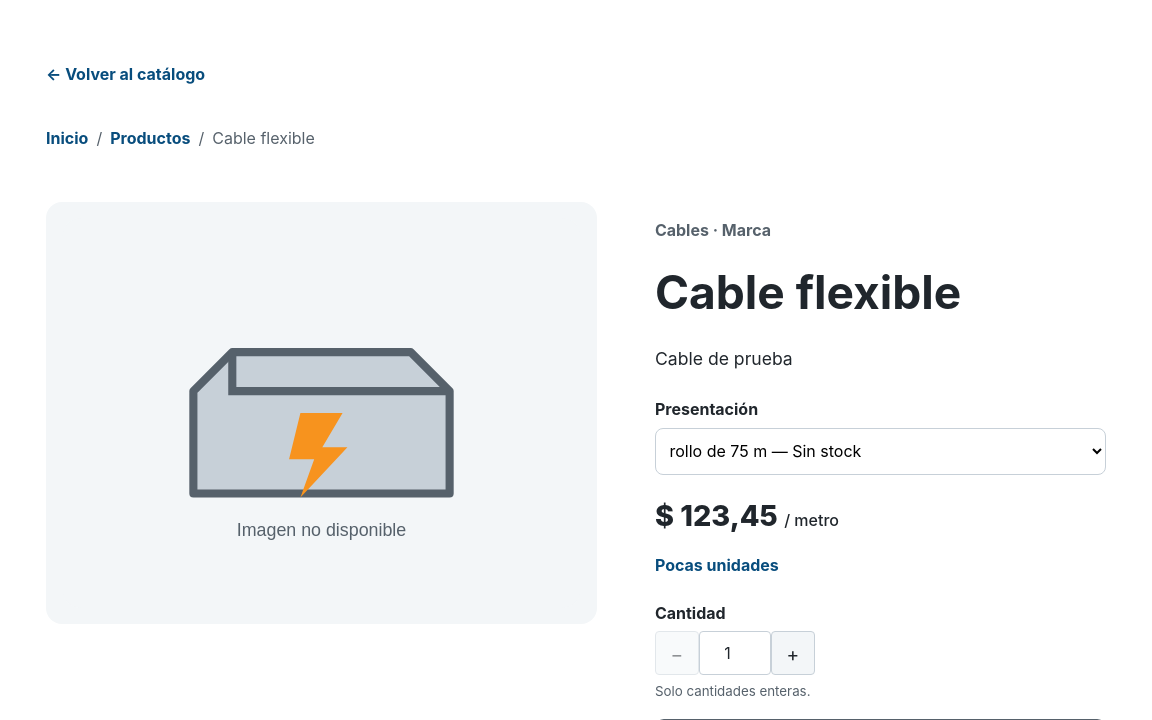
Test case: ProductDetailPageComponent › shows the selected presentation availability and disables its quantity control when empty
Step 1. Select "rollo de 75 m — Sin stock" in the dropdown labelled "Presentación" → (880,451), box x1=655 y1=428 x2=1106 y2=474
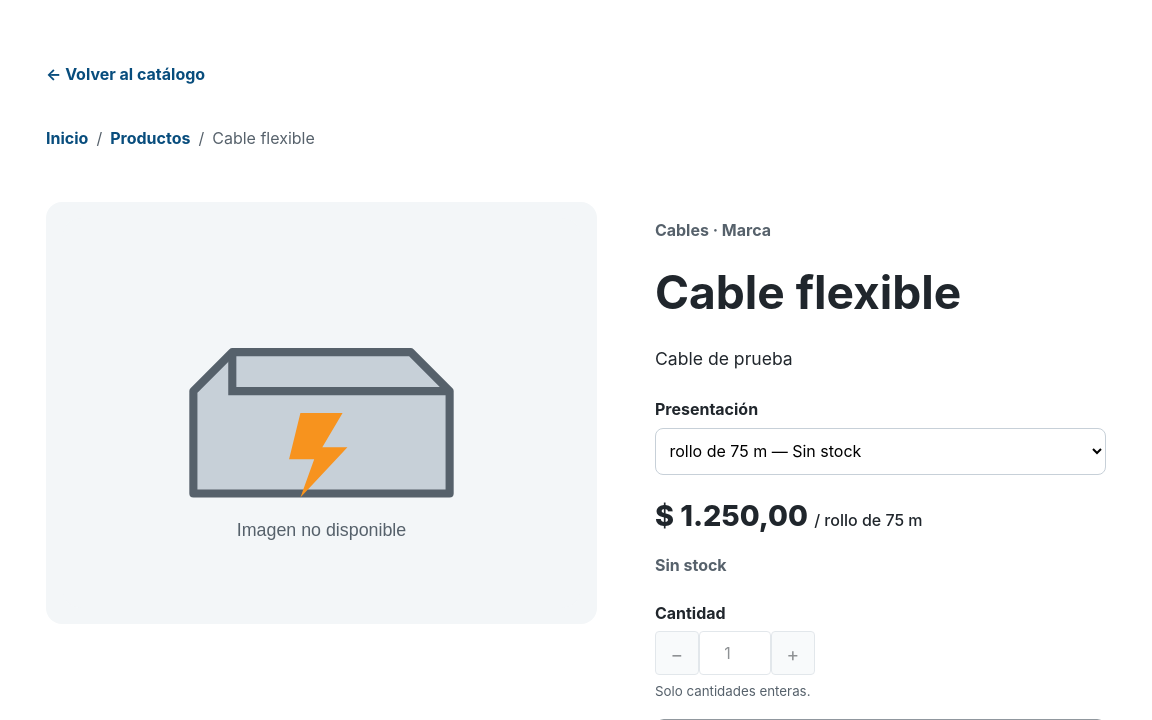
Now the element showing "$ 1.250,00 / rollo de 75 m" is shown, box x1=655 y1=498 x2=922 y2=533
Now the message with class "availability" reads "Sin stock", box x1=655 y1=555 x2=727 y2=575
